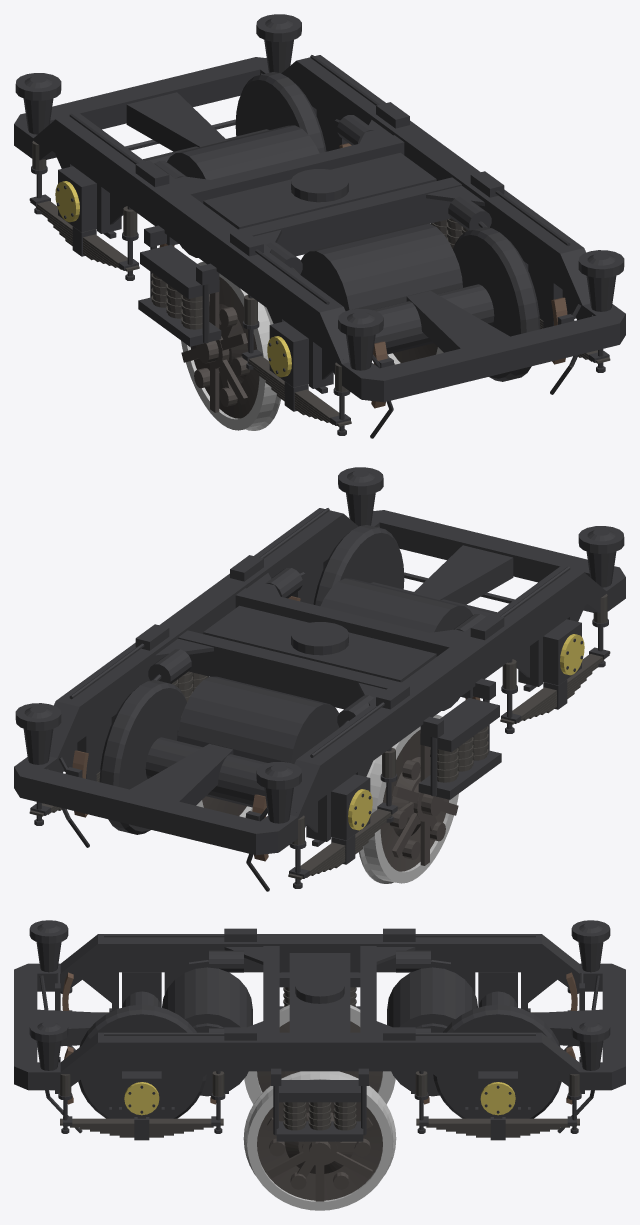
Rendered from eu07_bogie.fbx.
The picture shows the model from 3 angles, top to bottom: view 1: azimuth 30°, elevation 25°; view 2: azimuth 150°, elevation 25°; view 3: azimuth 270°, elevation 25°; orthographic projection. The views are drawn at different scales.
Visible parts, largest first — view 1: Bogie_frame, Bogie_wheelset, Bogie_shoes; view 2: Bogie_frame, Bogie_wheelset, Bogie_shoes; view 3: Bogie_frame, Bogie_wheelset, Bogie_shoes.
Boxes of the visible parts, <box> form: Bogie_frame: <box>14,14,625,438</box>; Bogie_wheelset: <box>181,261,443,430</box>; Bogie_shoes: <box>159,143,567,408</box>; Bogie_frame: <box>14,467,625,891</box>; Bogie_wheelset: <box>196,714,458,883</box>; Bogie_shoes: <box>72,596,480,861</box>; Bogie_frame: <box>14,920,625,1141</box>; Bogie_wheelset: <box>243,1005,396,1210</box>; Bogie_shoes: <box>62,972,577,1104</box>.
Size of the model in its own units: 2.59 by 1.88 by 5.24.
